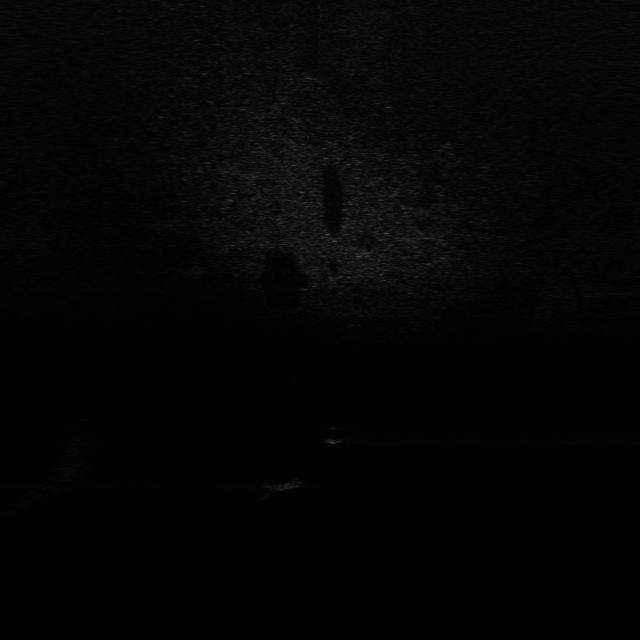ball: (317, 424, 351, 446)
square cage: (260, 475, 310, 493)
